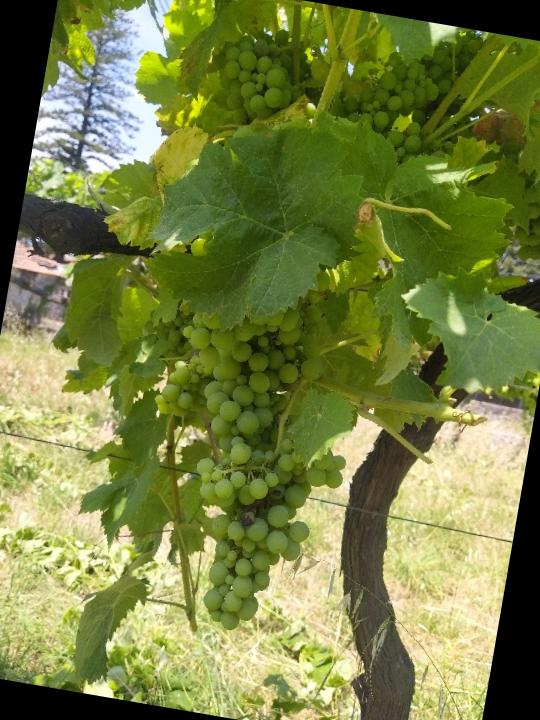grape: (167, 426, 350, 647), (146, 285, 336, 460), (335, 12, 485, 172), (200, 17, 318, 128)
